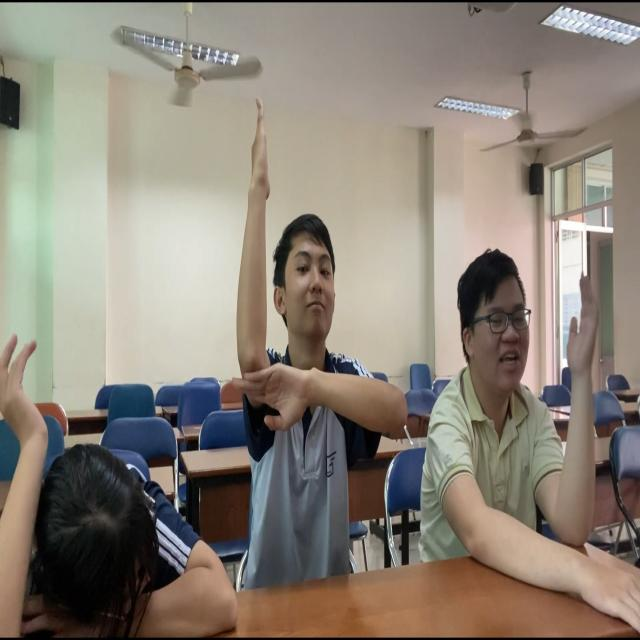raise_hand: (227, 86, 420, 614), (417, 230, 640, 635)
